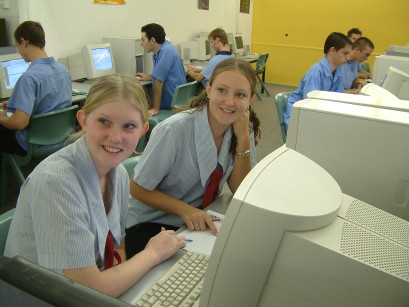person: (134, 24, 189, 117)
